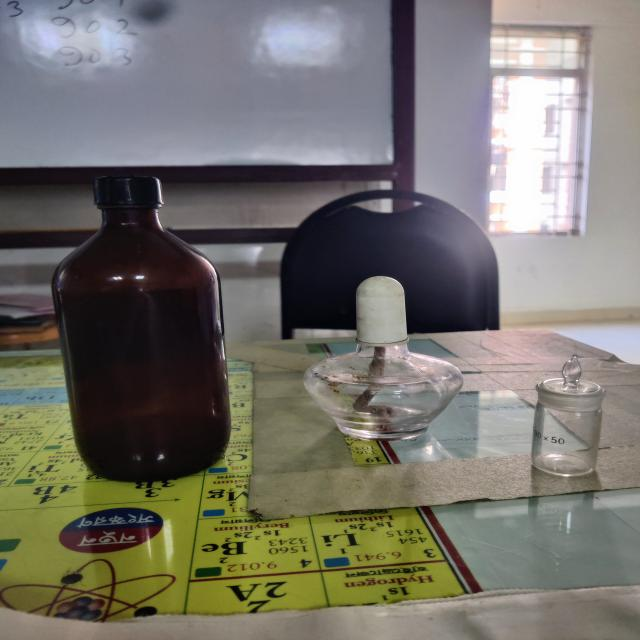Nessler_Reagent_Bottle: (35, 169, 254, 497)
Spirit_Lamp: (294, 265, 471, 465)
Weighing_Bottle: (510, 346, 622, 484)
